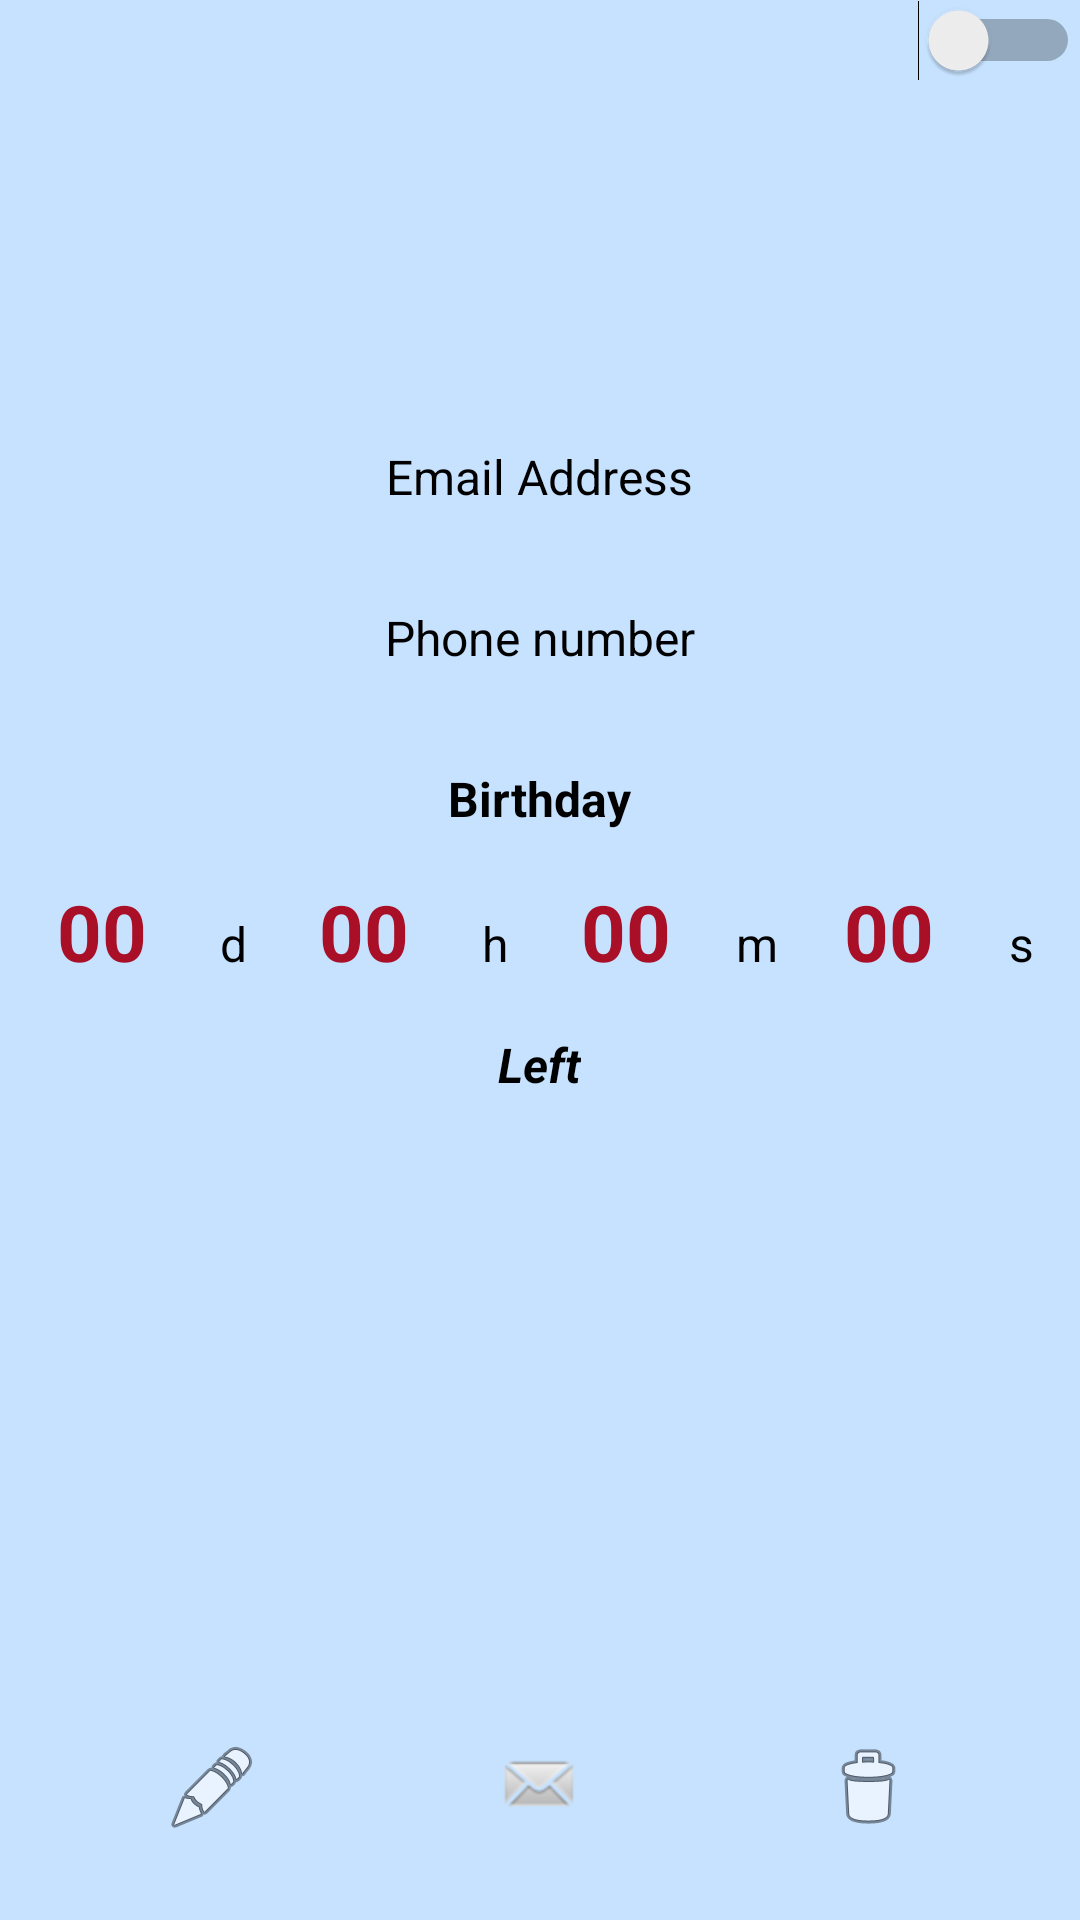

Icons on this 1080w x 1920h Android screen, each with its box as (x1, y1, x2, y2):
delete: (841, 1749, 896, 1824)
edit: (171, 1747, 252, 1828)
sym action email: (505, 1761, 573, 1806)
